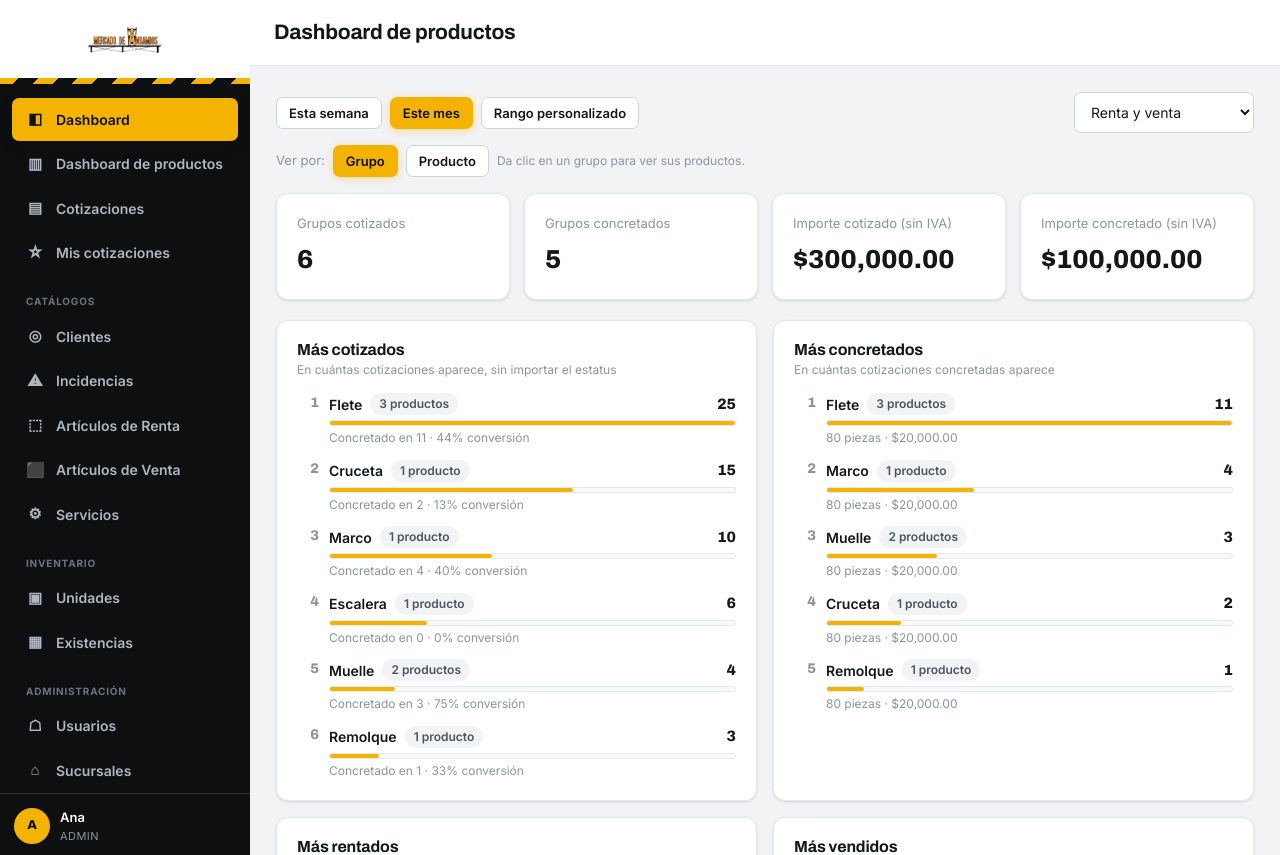
DashboardProductos — por producto › el filtro "Solo renta" oculta el top de vendidos y filtra la tabla
Expected: the element "Más cotizados" is shown, [276,320,757,801]
Click the button "Producto": (447,161) [406,145,489,177]
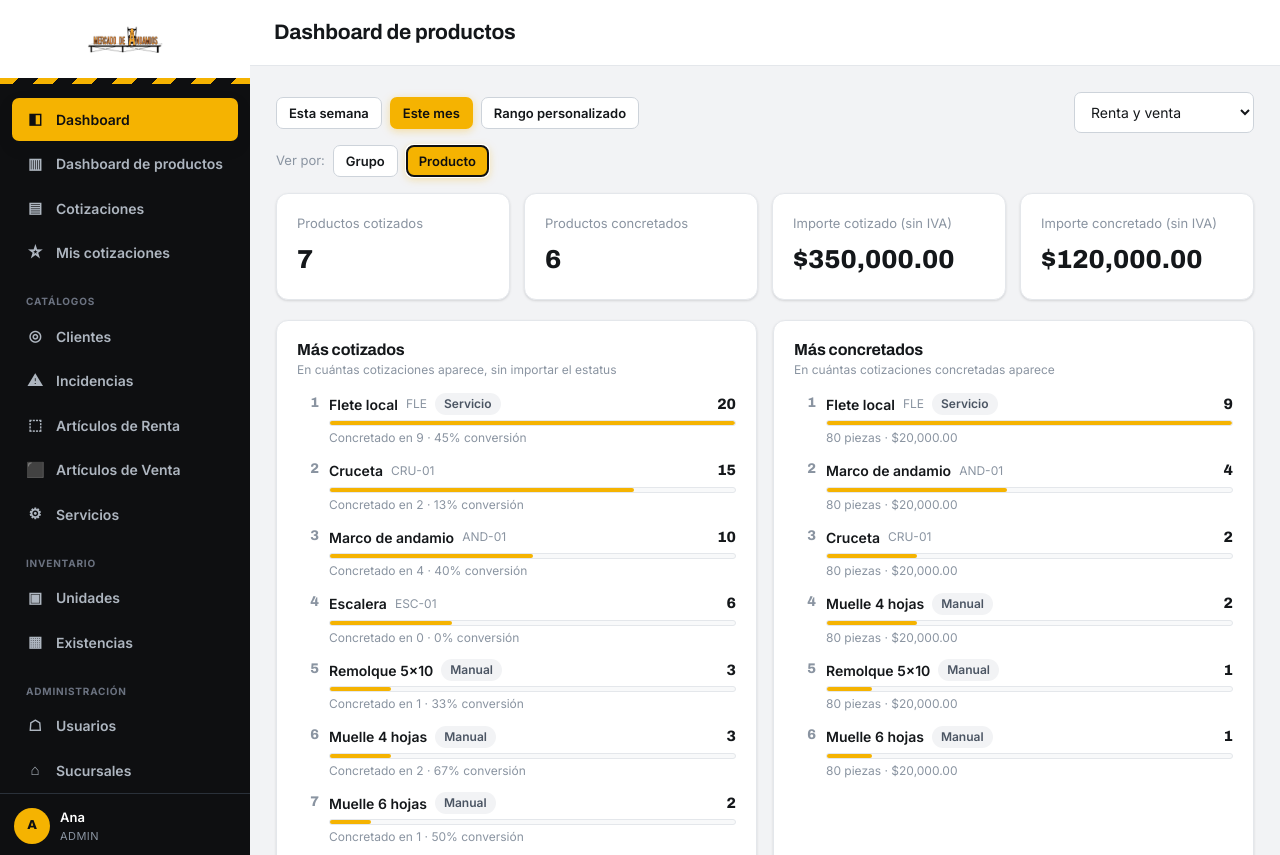
Select "Solo renta" in the dropdown named "Tipo": (1164,112) [1074,92,1254,133]
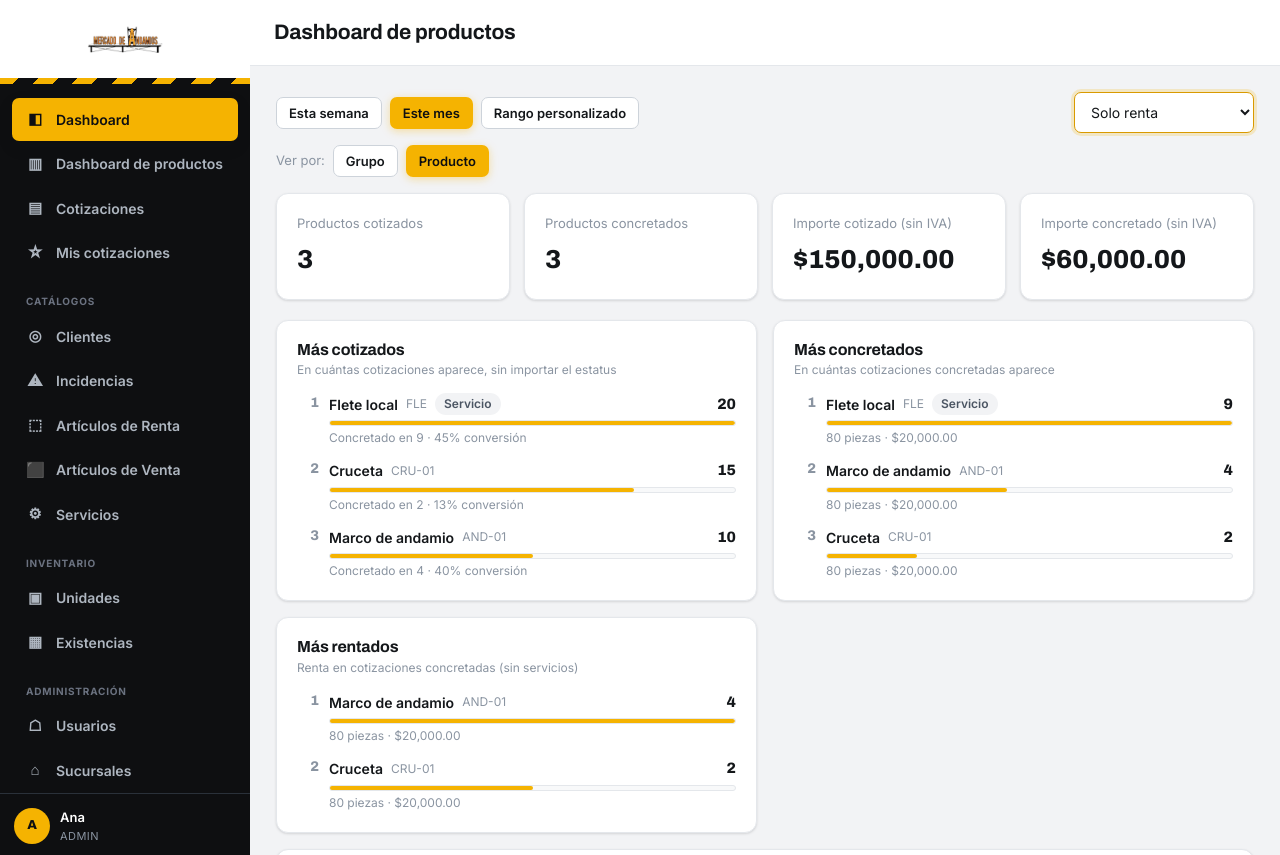
Expected: the text "Escalera" is gone
